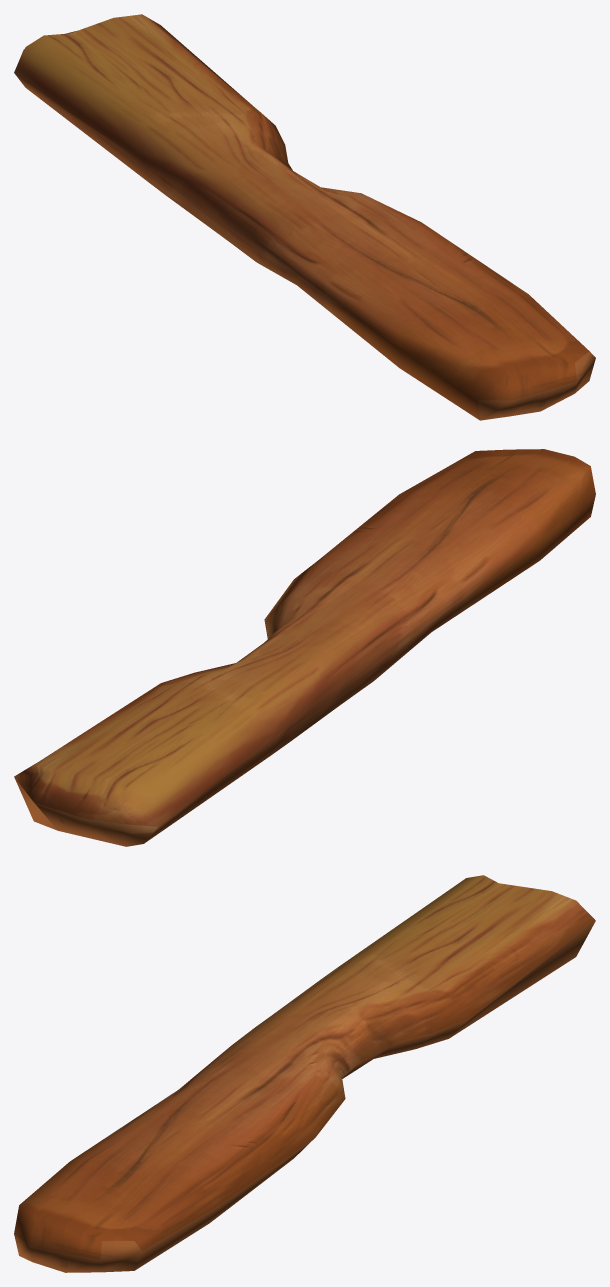
File: Plank.fbx
3 views of the same model, one above another, from view 1: azimuth 30°, elevation 25°; view 2: azimuth 150°, elevation 25°; view 3: azimuth 330°, elevation 25° (orthographic).
Parts seen in each view (by area): view 1: Plank_248_Triangles; view 2: Plank_248_Triangles; view 3: Plank_248_Triangles.
Boxes of the visible parts, x1,y1,x2,y2 form: Plank_248_Triangles: [14, 14, 595, 420]; Plank_248_Triangles: [14, 449, 595, 846]; Plank_248_Triangles: [14, 875, 595, 1272].
Size of the model in its own units: 167 by 67.64 by 940.
